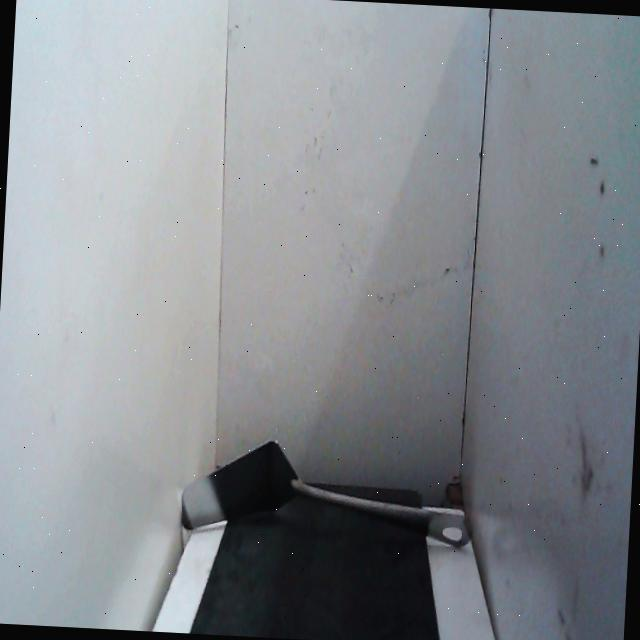metal: (175, 428, 496, 560)
